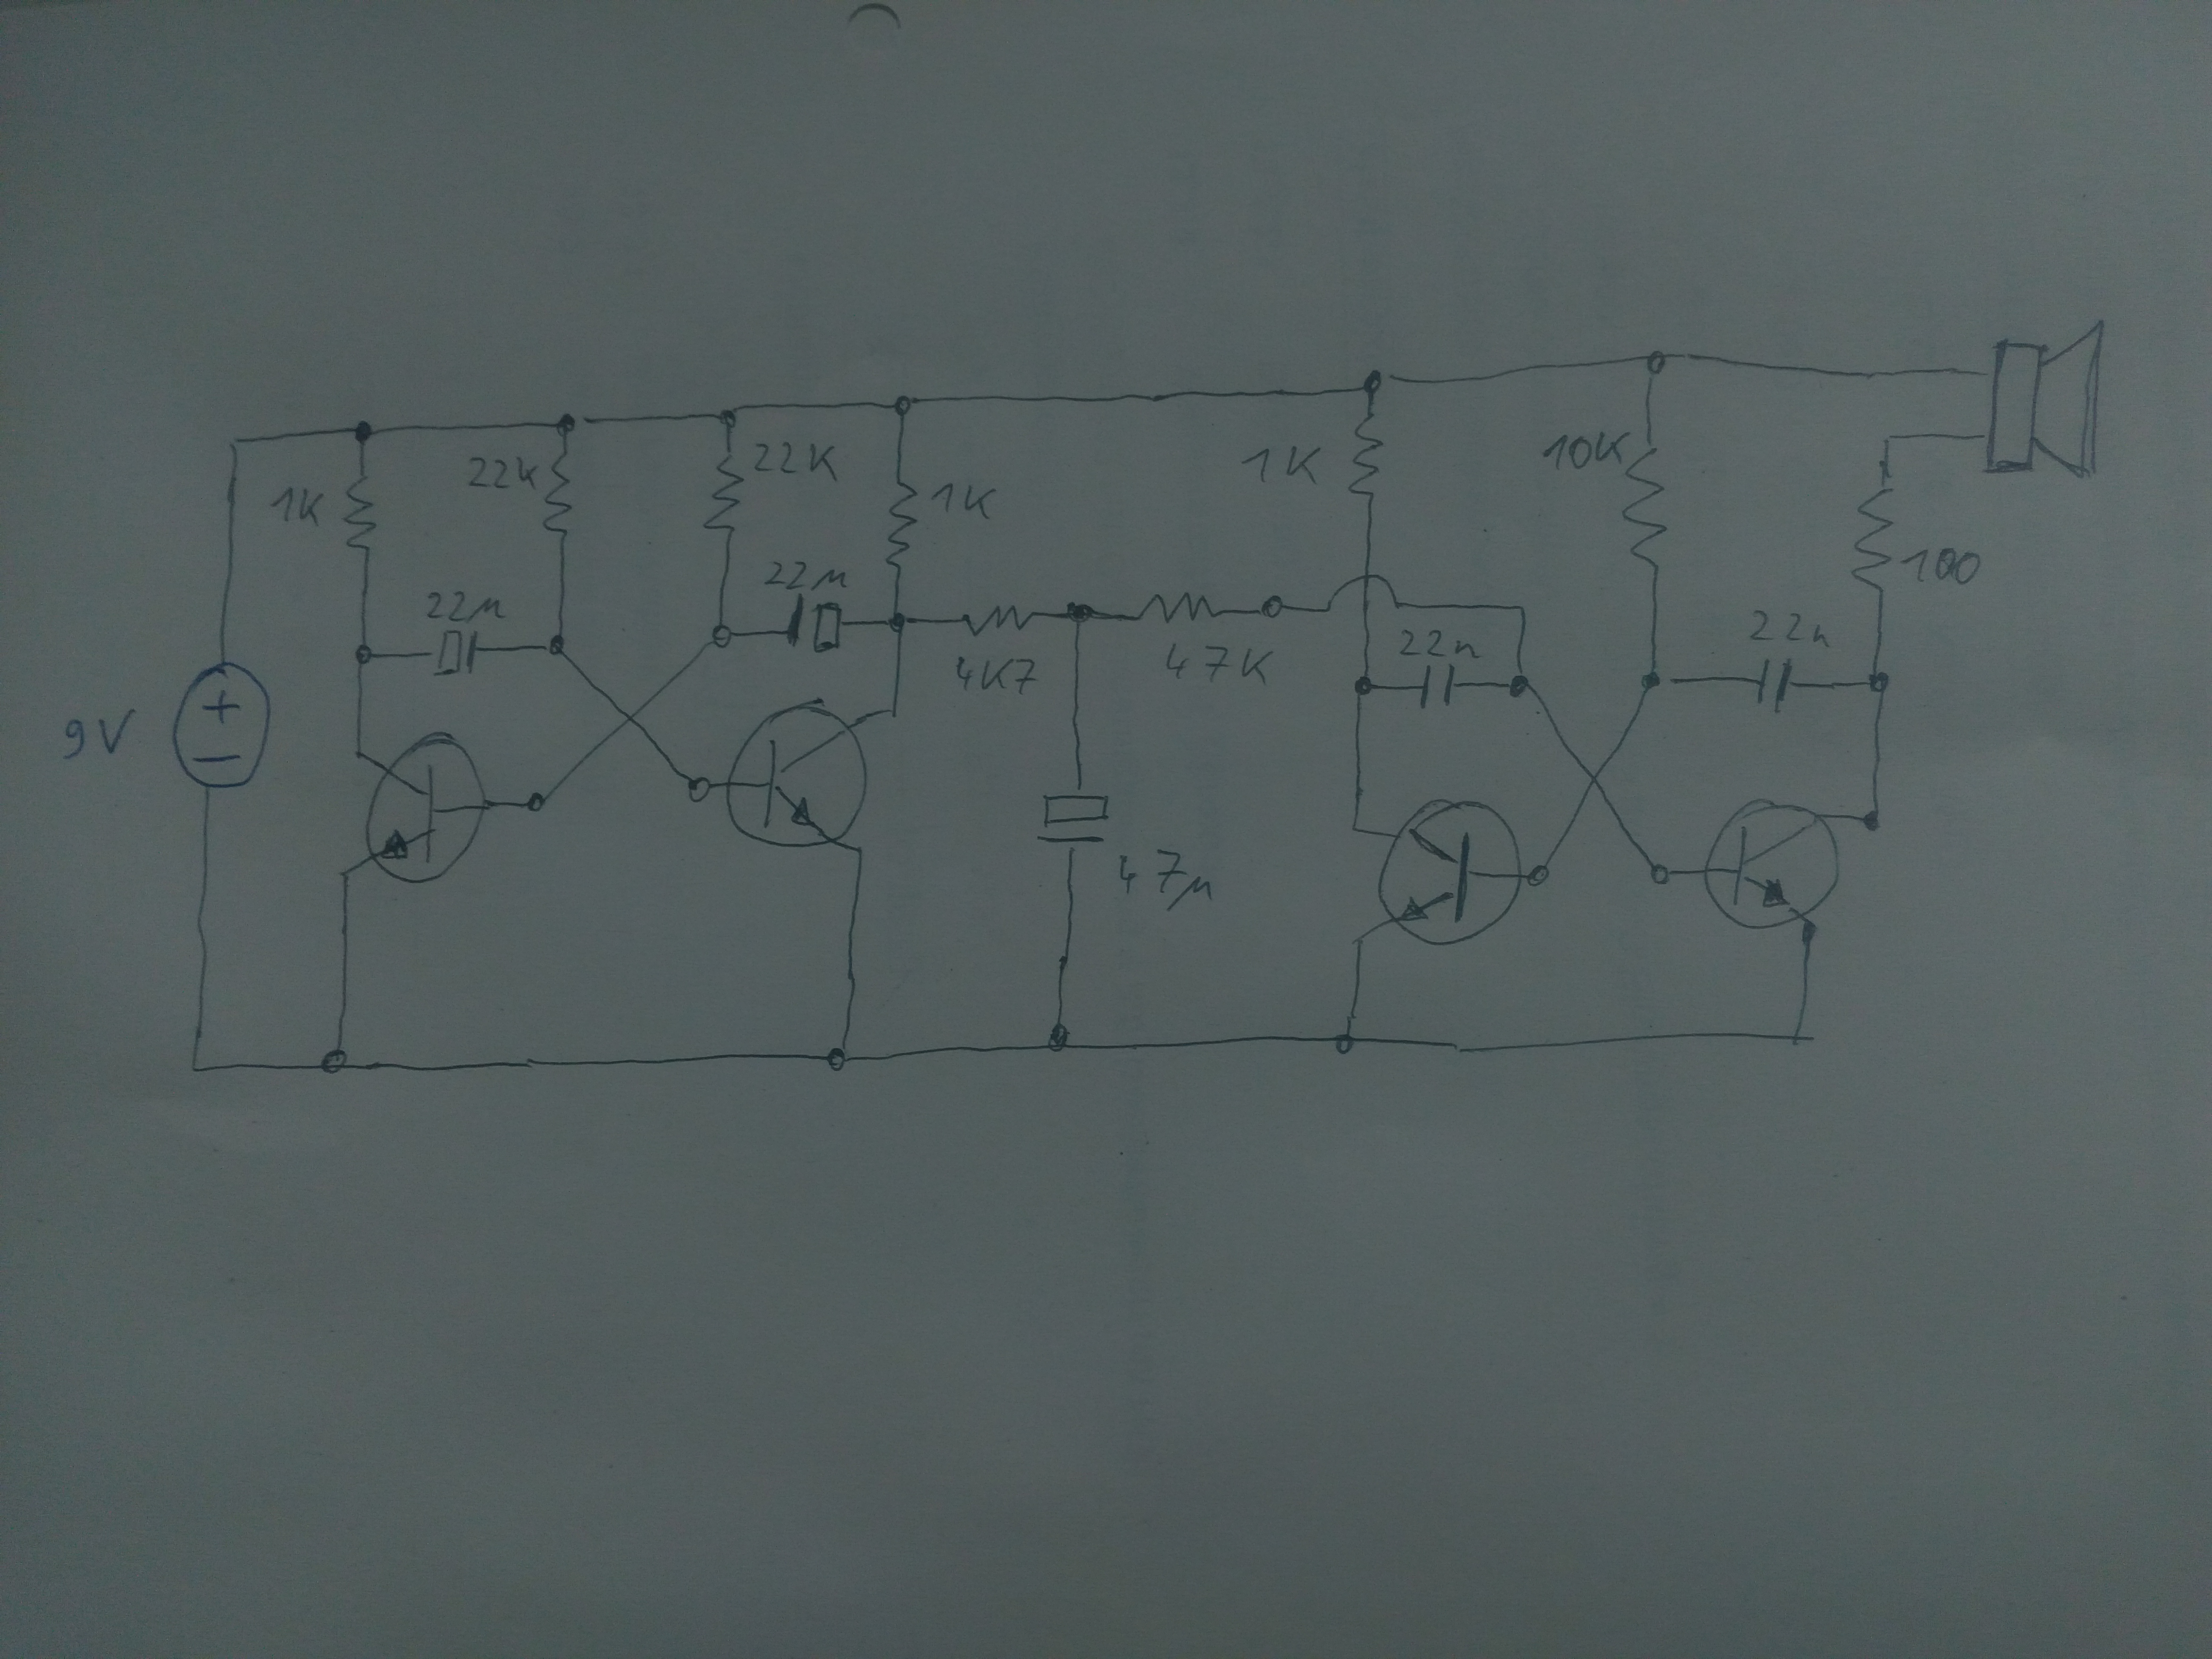capacitor.polarized: (1035, 791, 1111, 845), (782, 592, 843, 655), (428, 627, 479, 681)
capacitor.unpolarized: (1752, 655, 1792, 714), (1418, 660, 1456, 709)
crossover: (1318, 572, 1407, 620), (611, 697, 651, 737), (1575, 755, 1609, 795)
junction: (1040, 1023, 1078, 1054), (319, 1047, 354, 1077), (1355, 368, 1388, 397), (1860, 666, 1893, 695), (183, 1051, 214, 1080), (1503, 671, 1534, 701), (685, 772, 712, 805), (1524, 863, 1552, 896), (1350, 673, 1378, 704), (1064, 599, 1094, 627), (1644, 349, 1672, 378), (1860, 805, 1886, 836), (709, 622, 737, 650), (888, 392, 916, 420), (1646, 861, 1672, 890), (1639, 669, 1669, 695), (826, 1044, 850, 1075), (1874, 425, 1902, 451), (350, 643, 376, 669), (885, 610, 911, 636), (1259, 594, 1285, 620), (1507, 599, 1533, 626), (350, 420, 378, 444), (543, 634, 571, 659), (1782, 1028, 1810, 1053), (552, 411, 578, 436), (521, 789, 547, 814), (714, 406, 740, 430), (1348, 931, 1372, 955), (1341, 821, 1367, 843), (852, 845, 876, 868), (1332, 1032, 1355, 1056), (225, 430, 246, 455), (347, 744, 369, 765), (881, 704, 904, 725), (334, 866, 357, 885)
resistor: (1620, 446, 1674, 575), (1848, 484, 1898, 594), (698, 450, 747, 537), (883, 477, 920, 573), (1346, 411, 1386, 498), (1132, 591, 1223, 626), (954, 603, 1040, 640), (341, 472, 378, 556), (540, 453, 573, 538)
speaker: (1982, 319, 2107, 477)
text: (1113, 845, 1216, 915), (1162, 640, 1275, 690), (59, 708, 138, 763), (1745, 606, 1834, 650), (749, 441, 841, 483), (1538, 430, 1634, 471), (1238, 443, 1324, 486), (1895, 545, 1984, 587), (953, 653, 1038, 695), (1397, 627, 1482, 662), (465, 455, 540, 493), (930, 479, 998, 521), (763, 559, 850, 591), (423, 589, 505, 622), (268, 486, 326, 528)
transistor: (1374, 795, 1526, 950), (719, 697, 866, 850), (1700, 795, 1844, 936), (361, 734, 486, 887)
voltage.dc: (165, 659, 275, 796)
